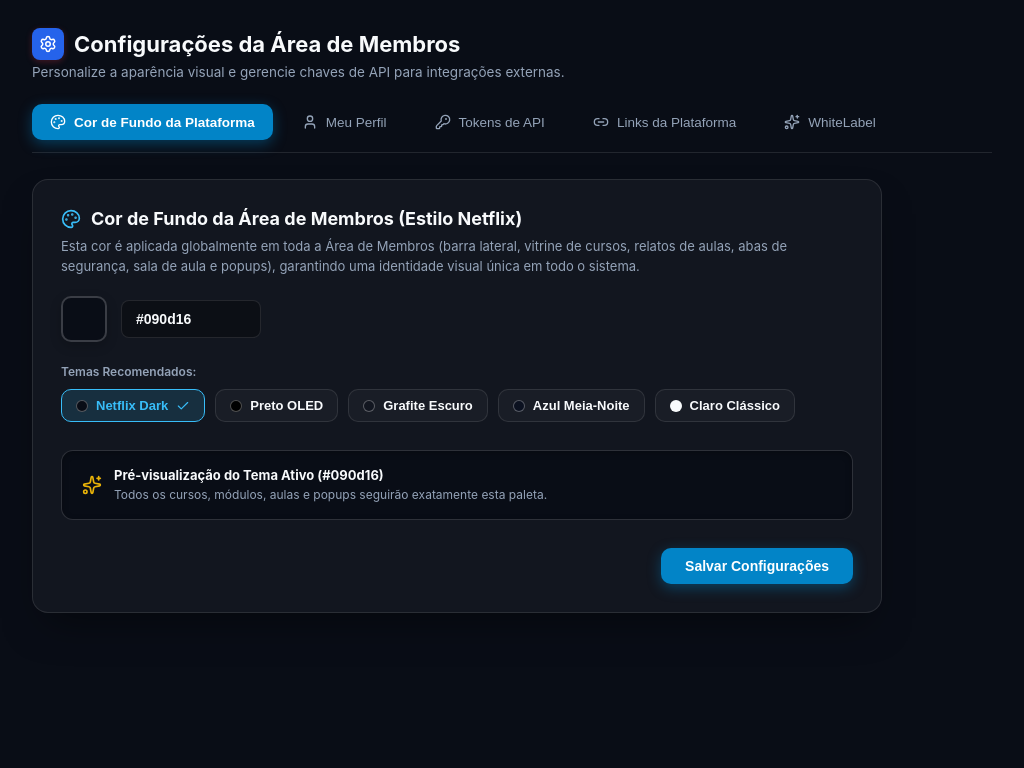
PlatformApiTokensTab and PlatformSettings Tabs Integration › allows opening modal, creating a new API token and displaying raw token modal
Navega para aba de Tokens
Click the button with test id "tab-api-tokens-btn" at (490,122), box [416,104,564,140]
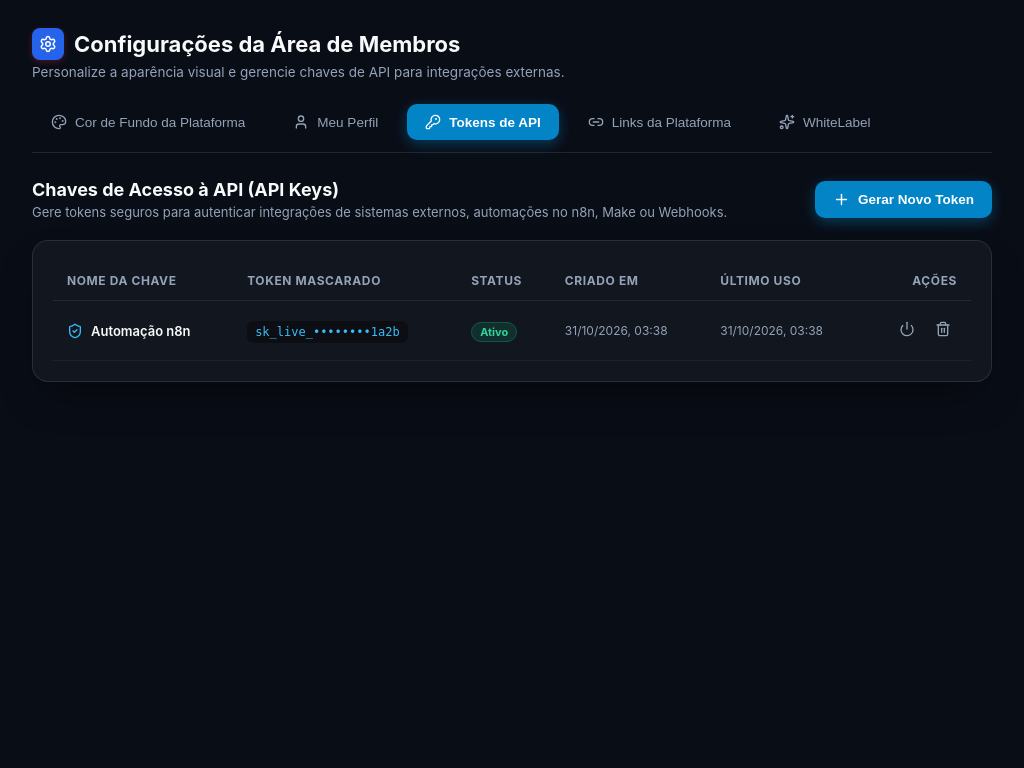
Expected: the text "Automação n8n" is shown, [91,322,191,338]
Clica em Gerar Novo Token
Click the button with test id "open-new-token-modal-btn" at (904,200), box [815,181,992,218]
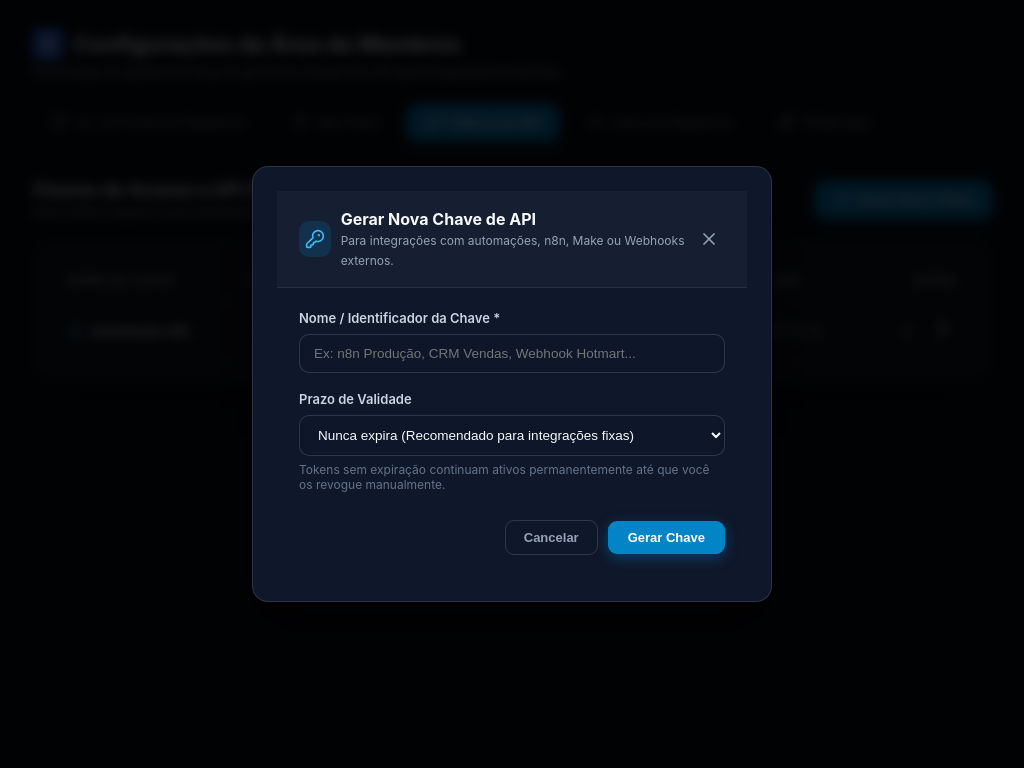
Expected: the element with test id "new-api-token-modal" is shown
Preenche nome
Type "Webhook Kiwify" into the field with test id "api-token-name-input" at (512,354), box [299,334,725,373]
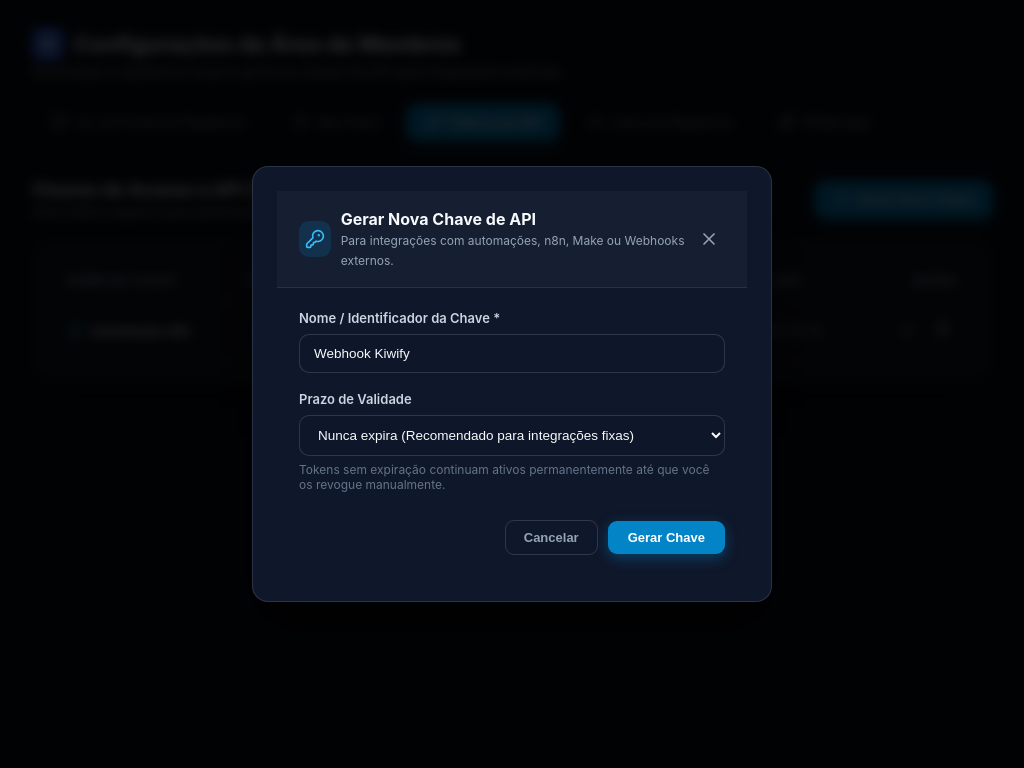
Clica em Gerar Chave
Click the button with test id "confirm-create-token-btn" at (666,538), box [608,521,725,554]
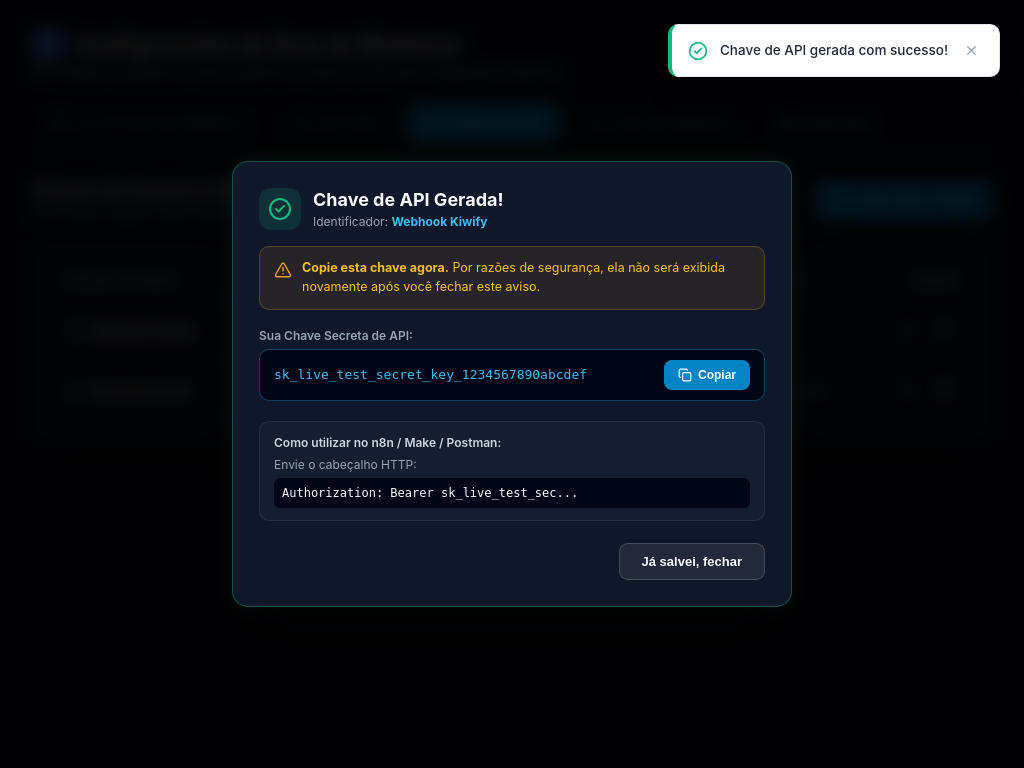
Expected: the element with test id "token-created-modal" is shown
Expected: the text "sk_live_test_secret_key_1234567890abcdef" is shown, [274,367,587,382]
Expected: the button with test id "copy-raw-token-btn" is shown, [664,360,750,390]
Fecha modal pós-criação
Click the button with test id "close-token-created-modal-btn" at (692,561), box [618,543,765,580]
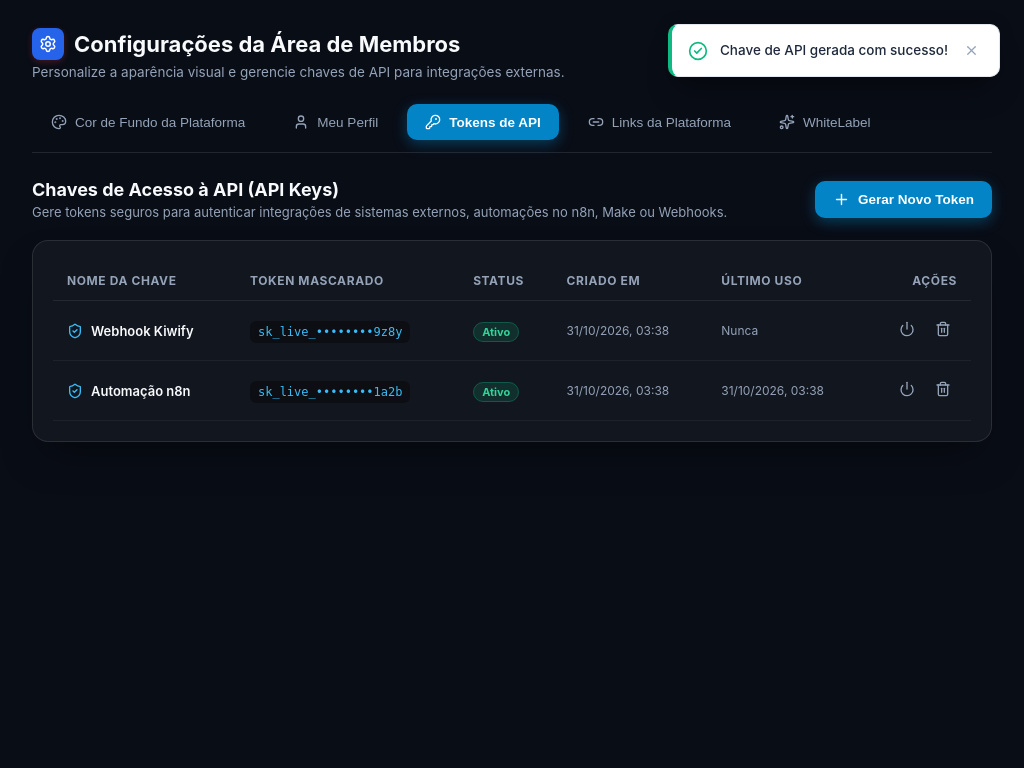
Expected: the text "Webhook Kiwify" is shown, [91,322,194,338]
Expected: the element with test id "token-created-modal" is gone
